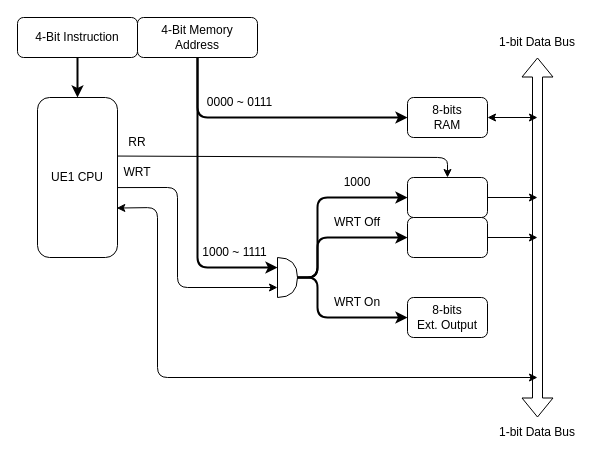
This 605x465 diagram has some shape labels left out. The shapes that lost their labels are listed below. From the top down, each one's centre as x and y in pixels, then its label:
At [447,197]: "RR Loopback".
At [447,237]: "7-bits Ext. Input".
